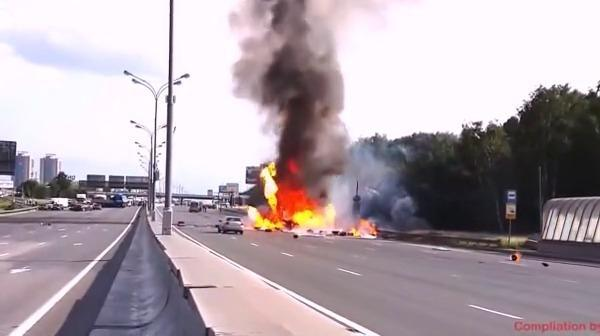fire: (246, 161, 343, 236)
